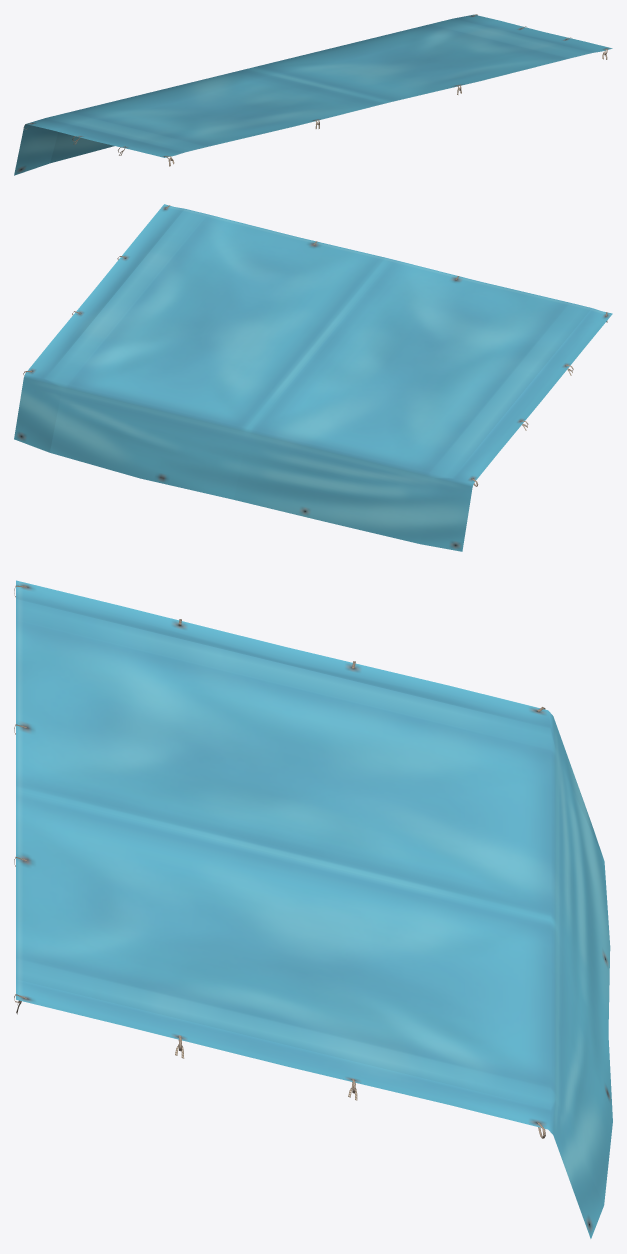
The model's file is jsf_Ceiling_s04_c03_t02.fbx.
3 renders of one model, top to bottom at view 1: azimuth 30°, elevation 25°; view 2: azimuth 150°, elevation 25°; view 3: azimuth 270°, elevation 25°, orthographic. The views are drawn at different scales.
Visible parts, largest first — view 1: jsf_Ceiling_s04_c03_t02; view 2: jsf_Ceiling_s04_c03_t02; view 3: jsf_Ceiling_s04_c03_t02.
Boxes of the visible parts, x1,y1,x2,y2 form: jsf_Ceiling_s04_c03_t02: (14, 14, 612, 175); jsf_Ceiling_s04_c03_t02: (14, 204, 612, 551); jsf_Ceiling_s04_c03_t02: (14, 580, 612, 1238).
Bounding box in the file's own units: 394 × 106 × 234.
